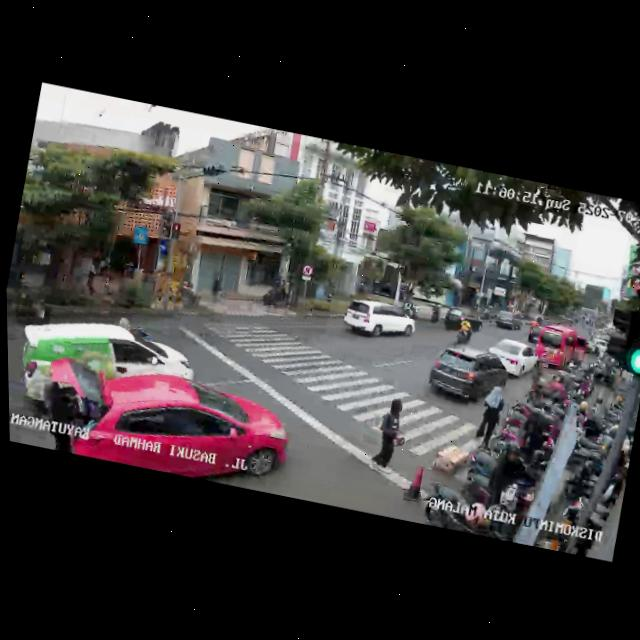car: (30, 352, 298, 495), (7, 307, 205, 439), (421, 338, 512, 414), (340, 293, 421, 349), (533, 321, 591, 375), (483, 335, 541, 381), (441, 303, 487, 338), (490, 308, 524, 334)
motorcycle: (23, 349, 114, 456), (454, 313, 476, 347), (525, 319, 542, 349)
person: (367, 395, 411, 479), (472, 377, 510, 447)
